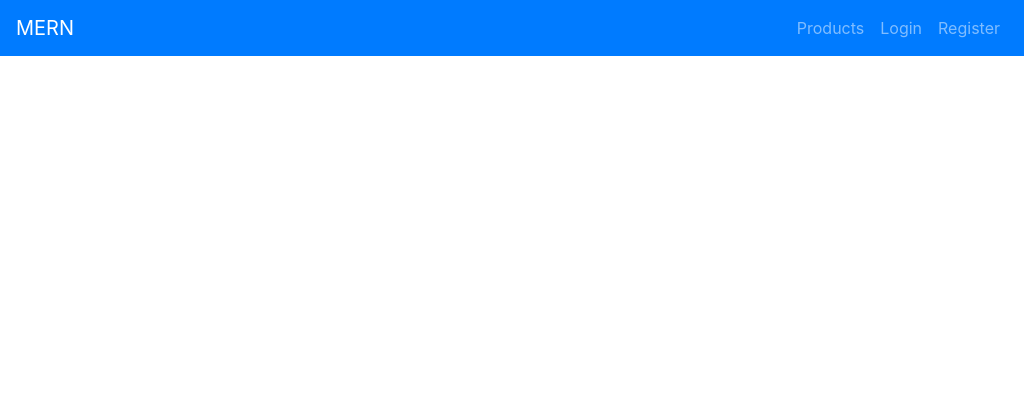
Test: A non registered user interacting with the site › redirects the user to the login page when they click 'Register' on the navbar
Click the link "Register". click: (969, 28)
box: x1=938 y1=18 x2=1000 y2=38
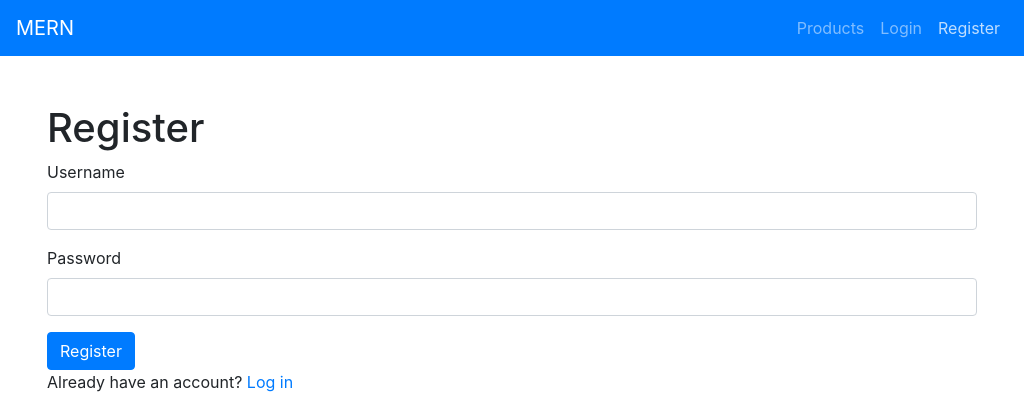
Now the heading "Register" is shown, box x1=47 y1=103 x2=204 y2=152
